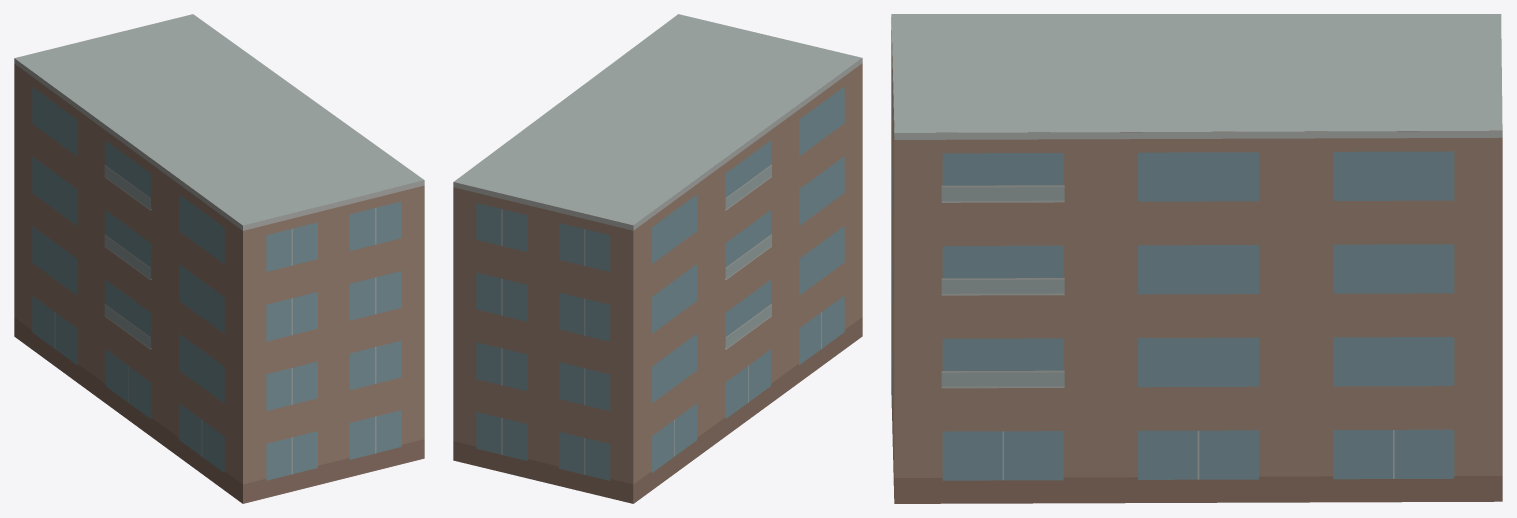
Rendered from survey-upis-32738123.glb.
3 renders of one model, left to right at view 1: azimuth 30°, elevation 25°; view 2: azimuth 150°, elevation 25°; view 3: azimuth 270°, elevation 25°, orthographic. The views are drawn at different scales.
Visible parts, largest first — view 1: survey-upis-32738123.tmp; view 2: survey-upis-32738123.tmp; view 3: survey-upis-32738123.tmp.
Boxes of the visible parts, x1,y1,x2,y2 form: survey-upis-32738123.tmp: (14, 14, 424, 503); survey-upis-32738123.tmp: (453, 14, 862, 503); survey-upis-32738123.tmp: (891, 14, 1502, 503).
Size of the model in its own units: 8.86 by 12.8 by 19.13.
